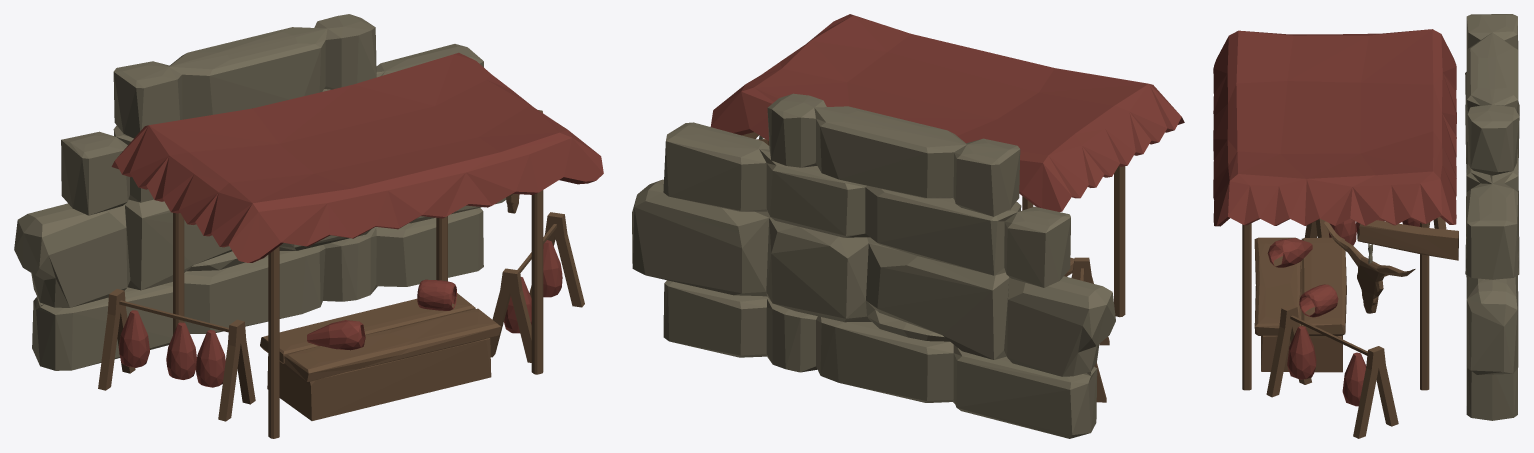
The model's file is Market.fbx.
3 views of the same model, side by side, from view 1: azimuth 30°, elevation 25°; view 2: azimuth 150°, elevation 25°; view 3: azimuth 270°, elevation 25° (orthographic). The views are drawn at different scales.
Visible parts, largest first — view 1: botcher market; view 2: botcher market; view 3: botcher market.
Part boxes in pixels (box(x1,y1,x2,y2)): botcher market: box(14, 14, 603, 438); botcher market: box(632, 14, 1184, 438); botcher market: box(1213, 14, 1519, 438).
Bounding box in the file's own units: 419 × 220 × 244.
